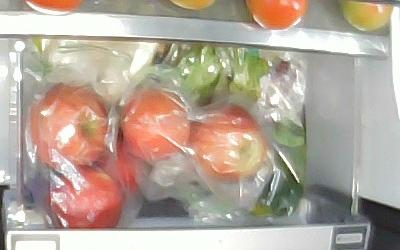apple_vinyl: (29, 83, 110, 167), (190, 105, 266, 182), (121, 88, 190, 162), (47, 165, 122, 228), (96, 129, 142, 196)
